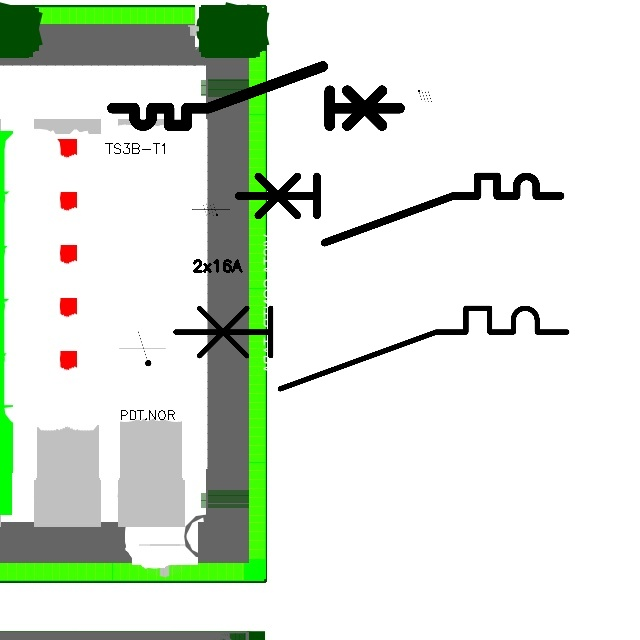interruptor_termomagnetico: (165, 298, 577, 399), (230, 168, 569, 251), (105, 59, 407, 133)
